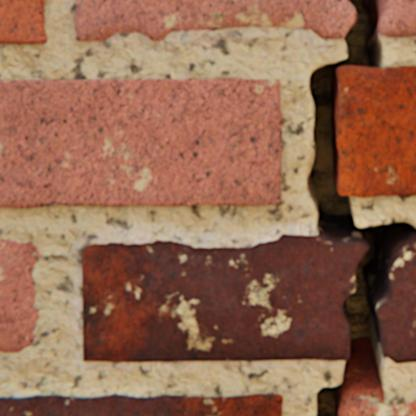brick: (0, 78, 282, 207), (336, 66, 415, 197), (0, 392, 282, 415), (0, 238, 41, 351), (0, 0, 48, 43), (340, 391, 415, 415)
broken_brick: (83, 233, 367, 360), (76, 0, 355, 41), (375, 230, 415, 362), (376, 0, 415, 37)
crack: (306, 0, 415, 415)
